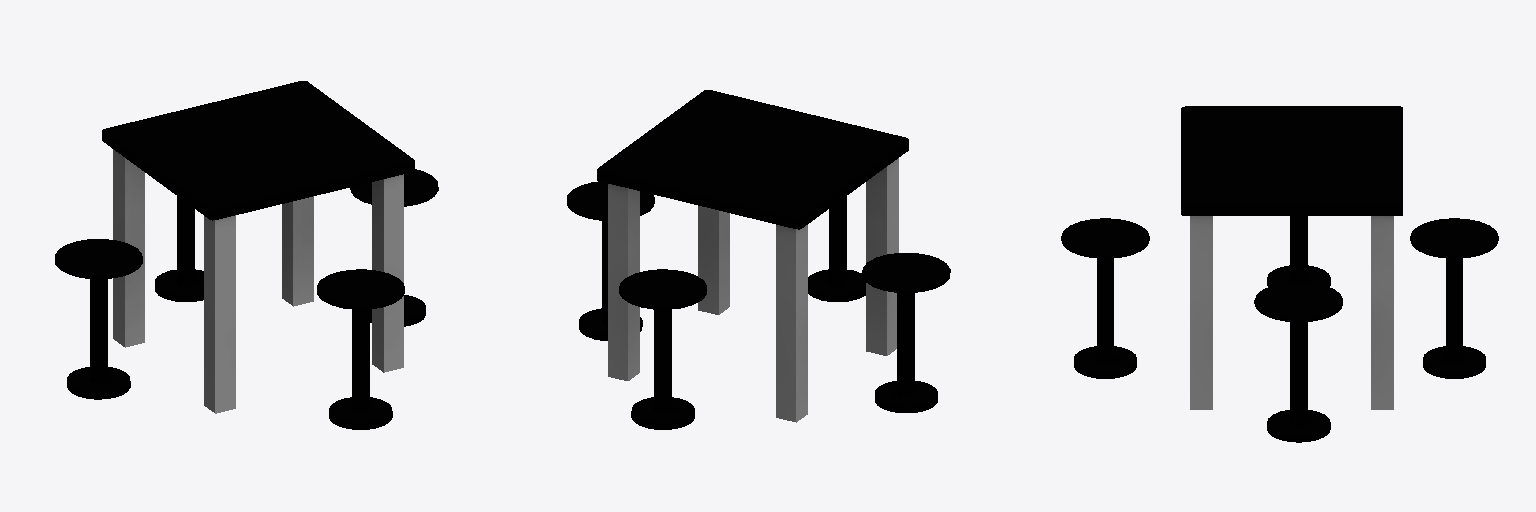
The picture shows the model from 3 angles: view 1: azimuth 30°, elevation 25°; view 2: azimuth 150°, elevation 25°; view 3: azimuth 270°, elevation 25°; orthographic projection.
Visible parts, largest first — view 1: pCylinder214; view 2: pCylinder214; view 3: pCylinder214.
Boxes of the visible parts, box(x1,y1,x2,y2) form: pCylinder214: box(55, 81, 438, 429); pCylinder214: box(567, 90, 950, 429); pCylinder214: box(1061, 106, 1498, 442).
Size of the model in its own units: 6.5 by 3.47 by 6.62.
Materials: 1 (1 with a texture image).